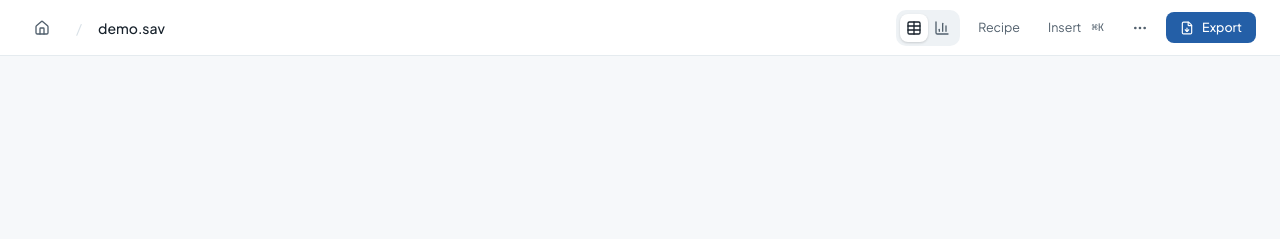
it: DashboardToolbar › closes the overflow menu on Escape
Click the button named "More" at (1140, 28), box [1122,14,1158,42]
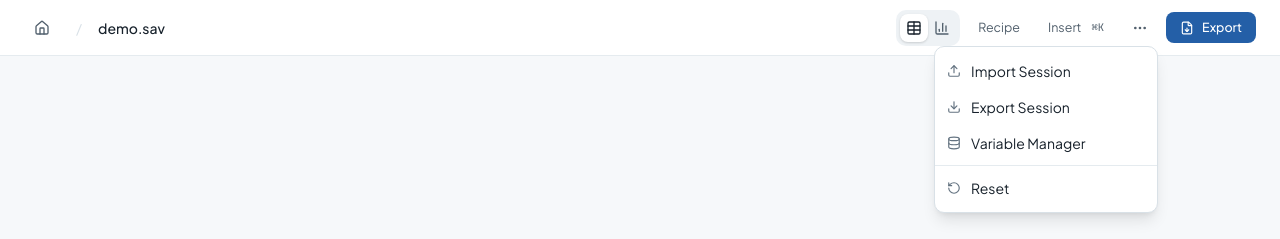
Check: the menu is shown, box [934,46,1158,212]
Press Escape
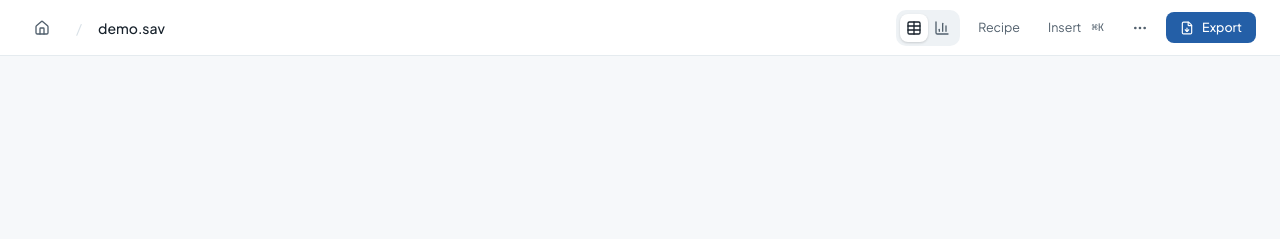
Check: the menu is gone
